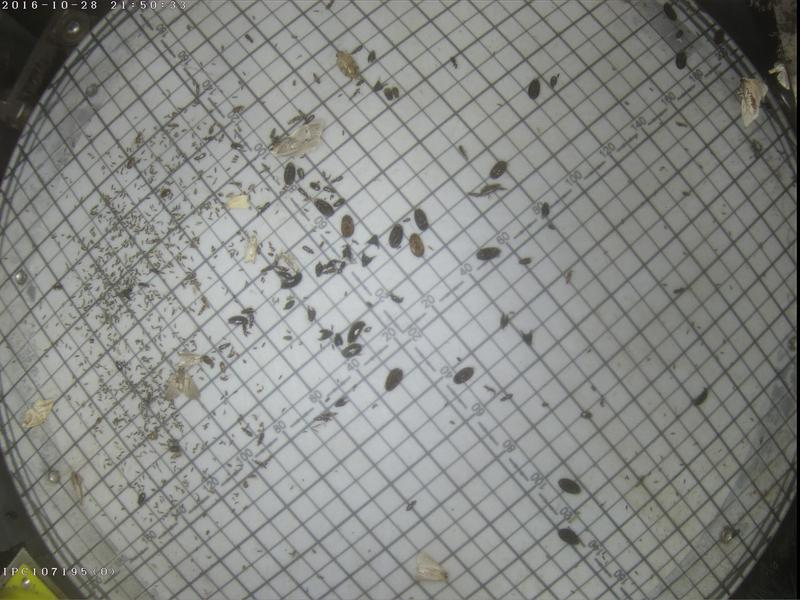Stem borer: (413, 551, 449, 583)
